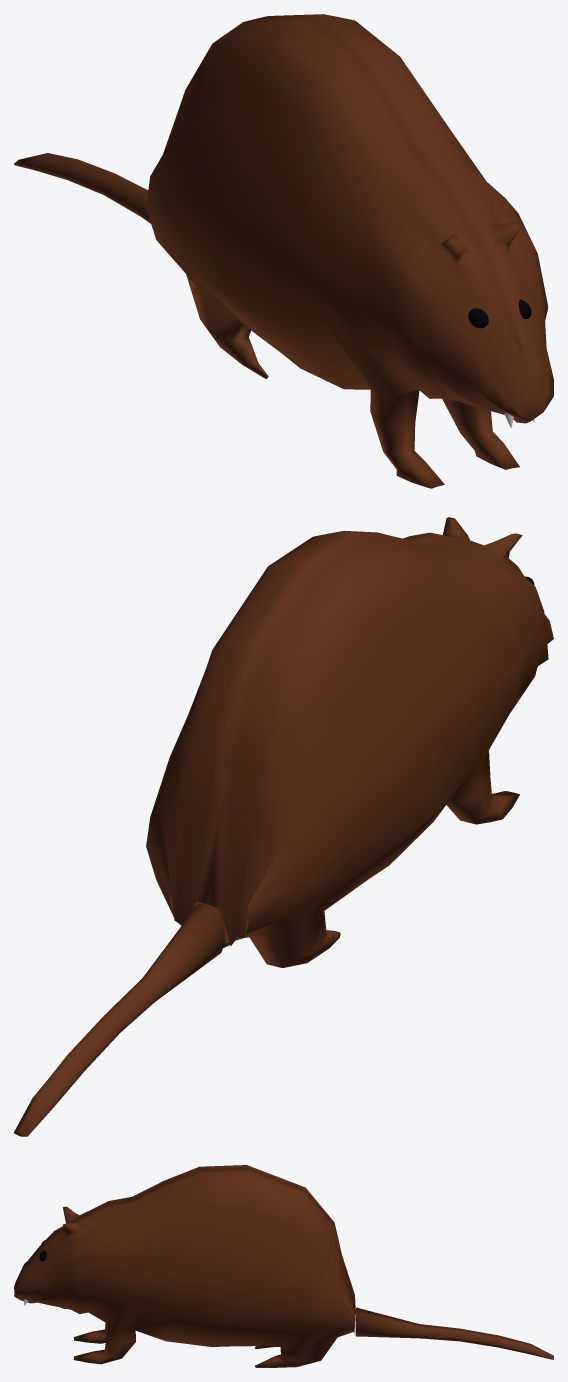
Rendered from Rat2.fbx.
3 views of the same model, one above another, from view 1: azimuth 30°, elevation 25°; view 2: azimuth 150°, elevation 25°; view 3: azimuth 270°, elevation 25° (orthographic). The views are drawn at different scales.
Visible parts, largest first — view 1: Plane; view 2: Plane; view 3: Plane.
Part boxes in pixels (<box>): Plane: <box>14,14,553,488</box>; Plane: <box>14,517,553,1136</box>; Plane: <box>14,1165,553,1367</box>.
Bounding box in the file's own units: 92.84 × 153 × 393.
